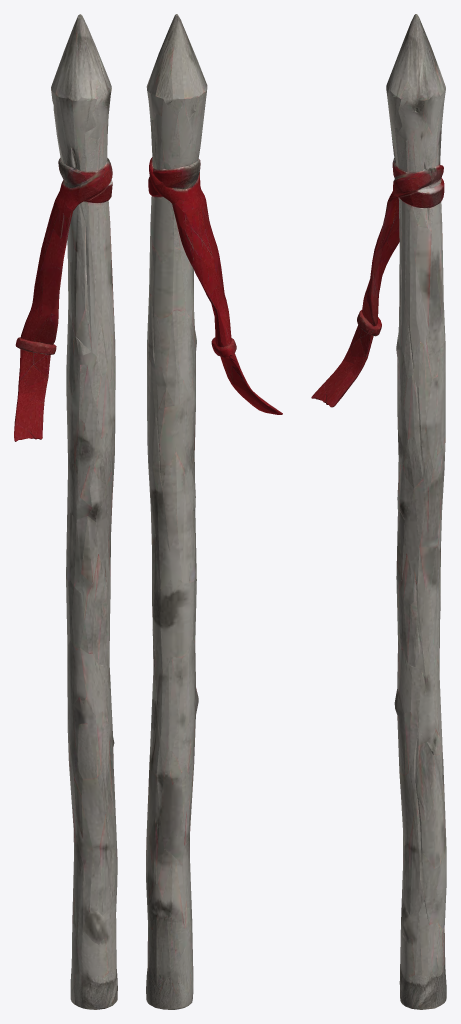
The model's file is marker.glb.
3 renders of one model, left to right at view 1: azimuth 30°, elevation 25°; view 2: azimuth 150°, elevation 25°; view 3: azimuth 330°, elevation 25°, orthographic.
Bounding box in the file's own units: 0.2354 × 1.9 × 0.1334.
1 material, 1 textured.
